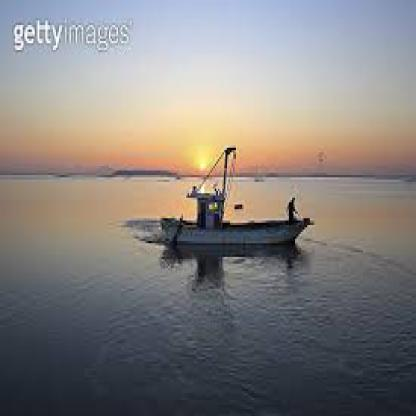fish-b: (120, 141, 320, 264)
